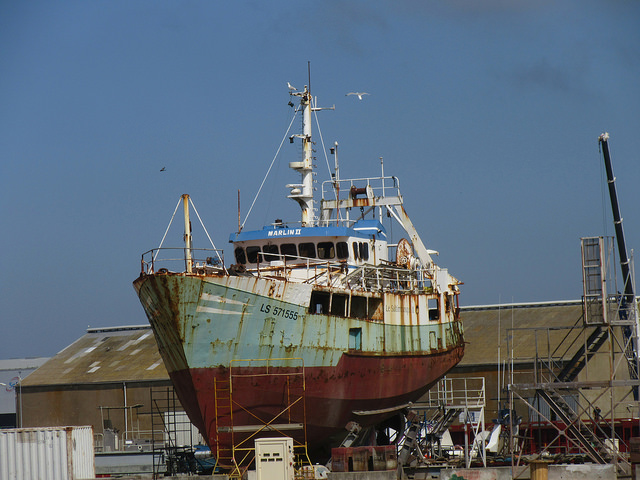fishing_boat: (129, 55, 467, 432)
